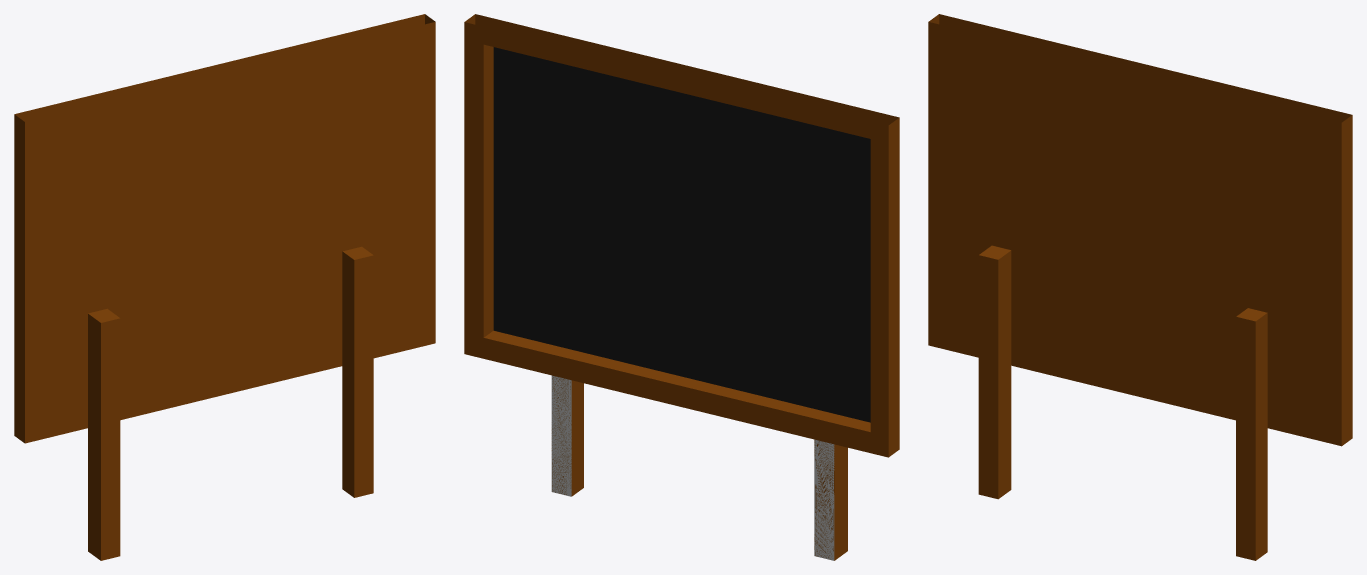
Rendered from board.dae.
The picture shows the model from 3 angles, left to right: view 1: azimuth 30°, elevation 25°; view 2: azimuth 150°, elevation 25°; view 3: azimuth 330°, elevation 25°; orthographic projection. The views are drawn at different scales.
Parts seen in each view (by area): view 1: SketchUp; view 2: SketchUp (×5); view 3: SketchUp.
Boxes of the visible parts, <box> form: SketchUp: <box>14,14,435,560</box>; SketchUp (×5): <box>464,14,899,560</box>; SketchUp: <box>928,14,1352,560</box>.
Bounding box in the file's own units: 158 × 15.75 × 163.
